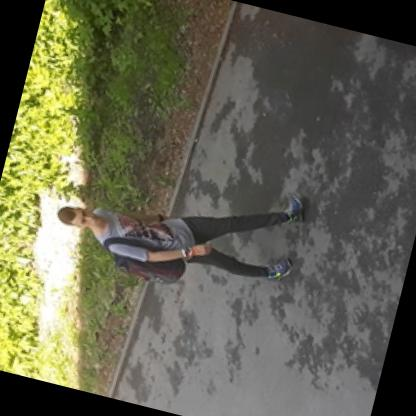Human Body: (40, 128, 323, 316)
